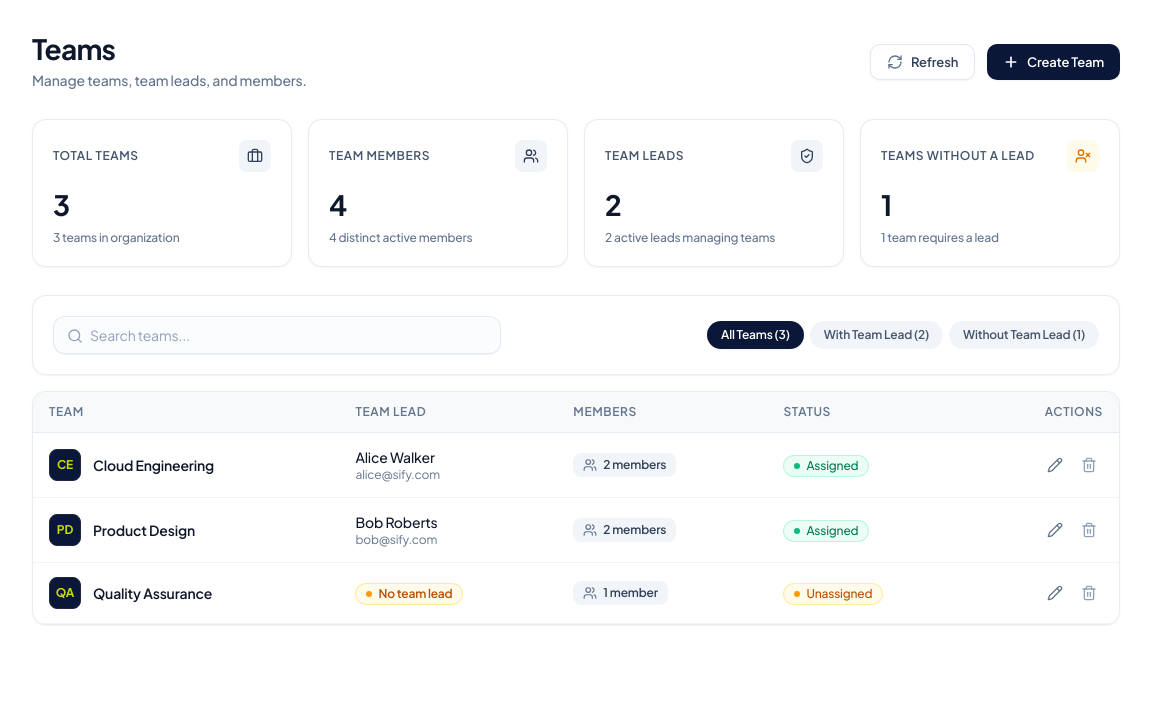
Test: TeamsList UX and Functionality Improvements › filters table when clicking the "Teams Without a Lead" summary card
The image size is (1152, 720).
Expected: the text "Cloud Engineering" is shown, left=93, top=455, right=214, bottom=475
Expected: the text "Product Design" is shown, left=93, top=520, right=195, bottom=540
Click the Teams Without a Lead card
What coordinates should you click on to do the following:
click the button with aria-label "Filter teams without a lead"
I would click on:
 (958, 156)
Its box is left=860, top=119, right=1120, bottom=267.
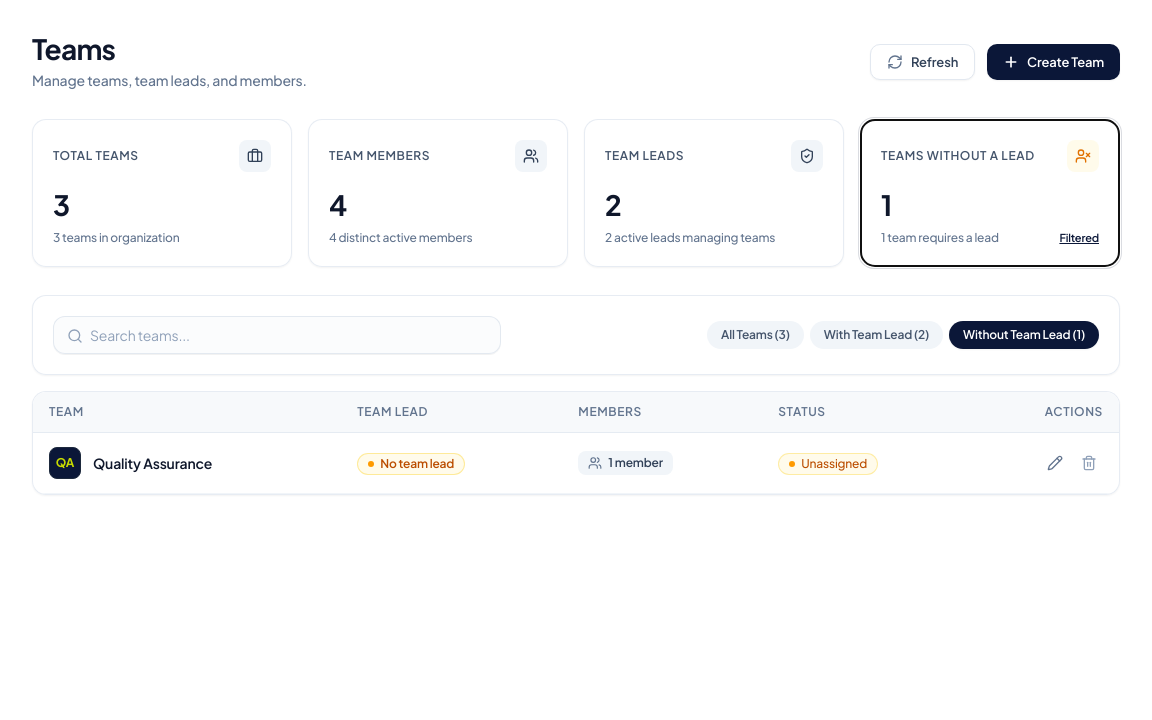
Expected: the text "Quality Assurance" is shown, left=93, top=453, right=212, bottom=473
Result: the text "Cloud Engineering" is gone
Result: the text "Product Design" is gone
Click again to toggle back
What coordinates should you click on to do the following:
click the button with aria-label "Filter teams without a lead"
I would click on:
 (958, 156)
Its box is left=860, top=119, right=1120, bottom=267.
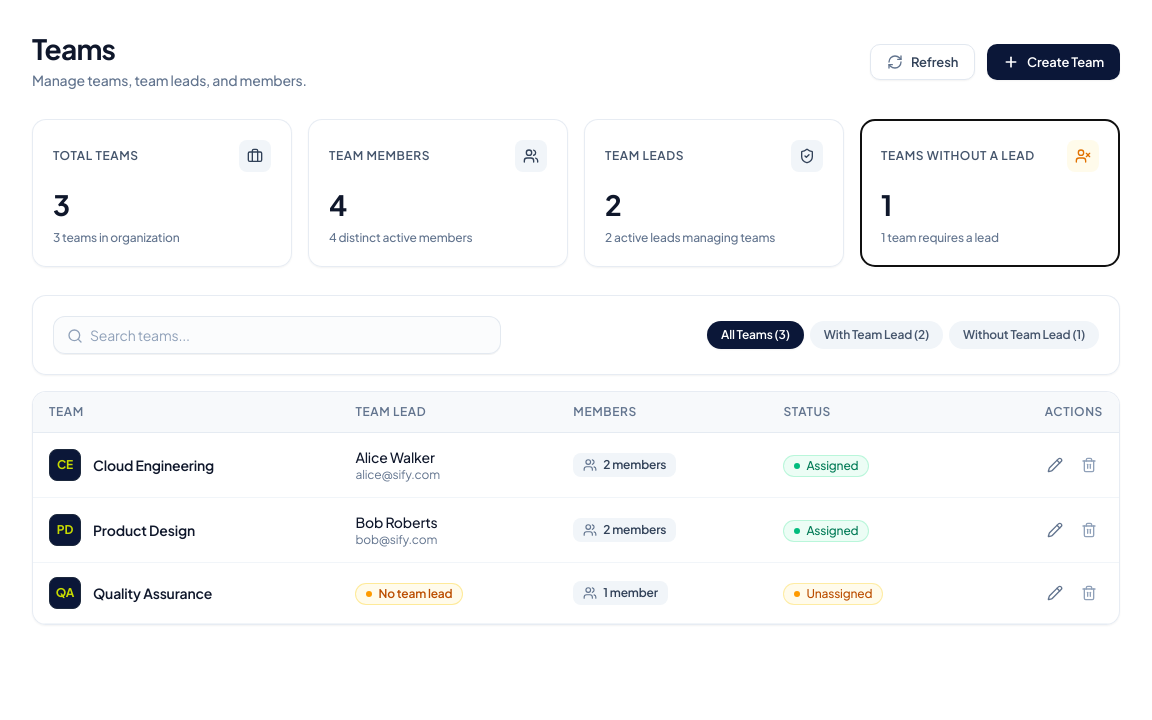
Result: the text "Cloud Engineering" is shown at left=93, top=455, right=214, bottom=475
Result: the text "Product Design" is shown at left=93, top=520, right=195, bottom=540
